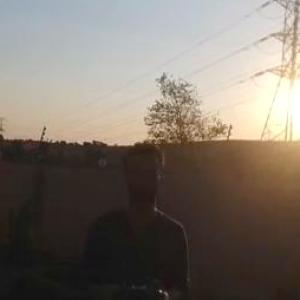follow: (74, 133, 192, 299)
